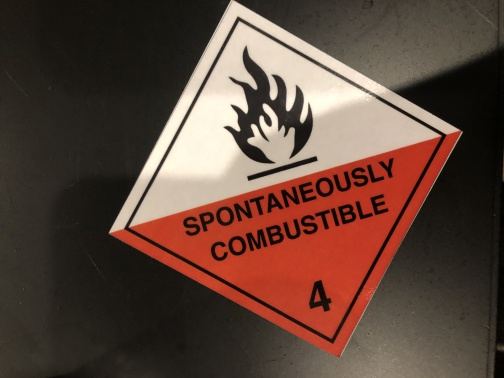SpontaneouslyCombustible: (106, 1, 462, 356)
